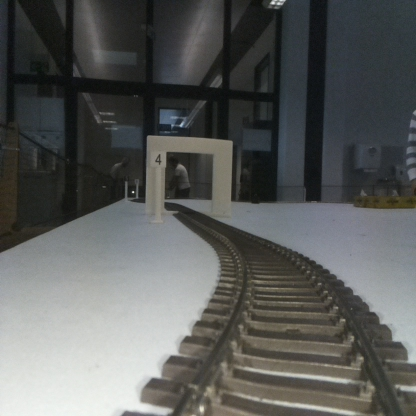white-info-4: (151, 150, 166, 223)
